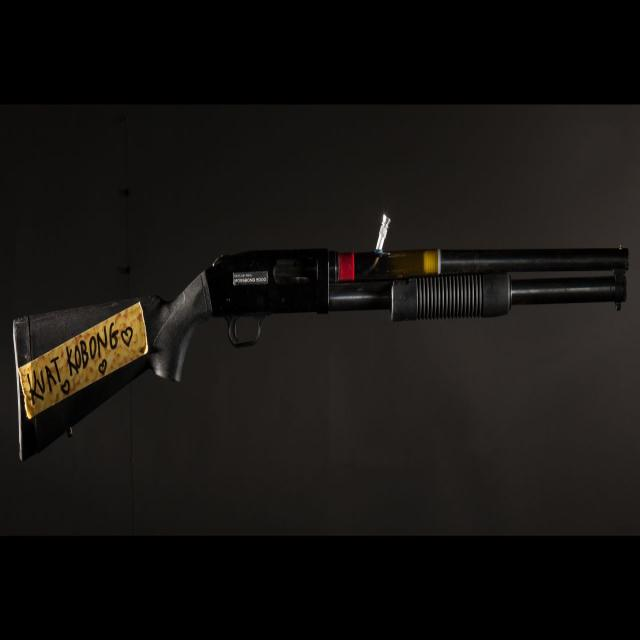ShotGun: (12, 248, 630, 460)
